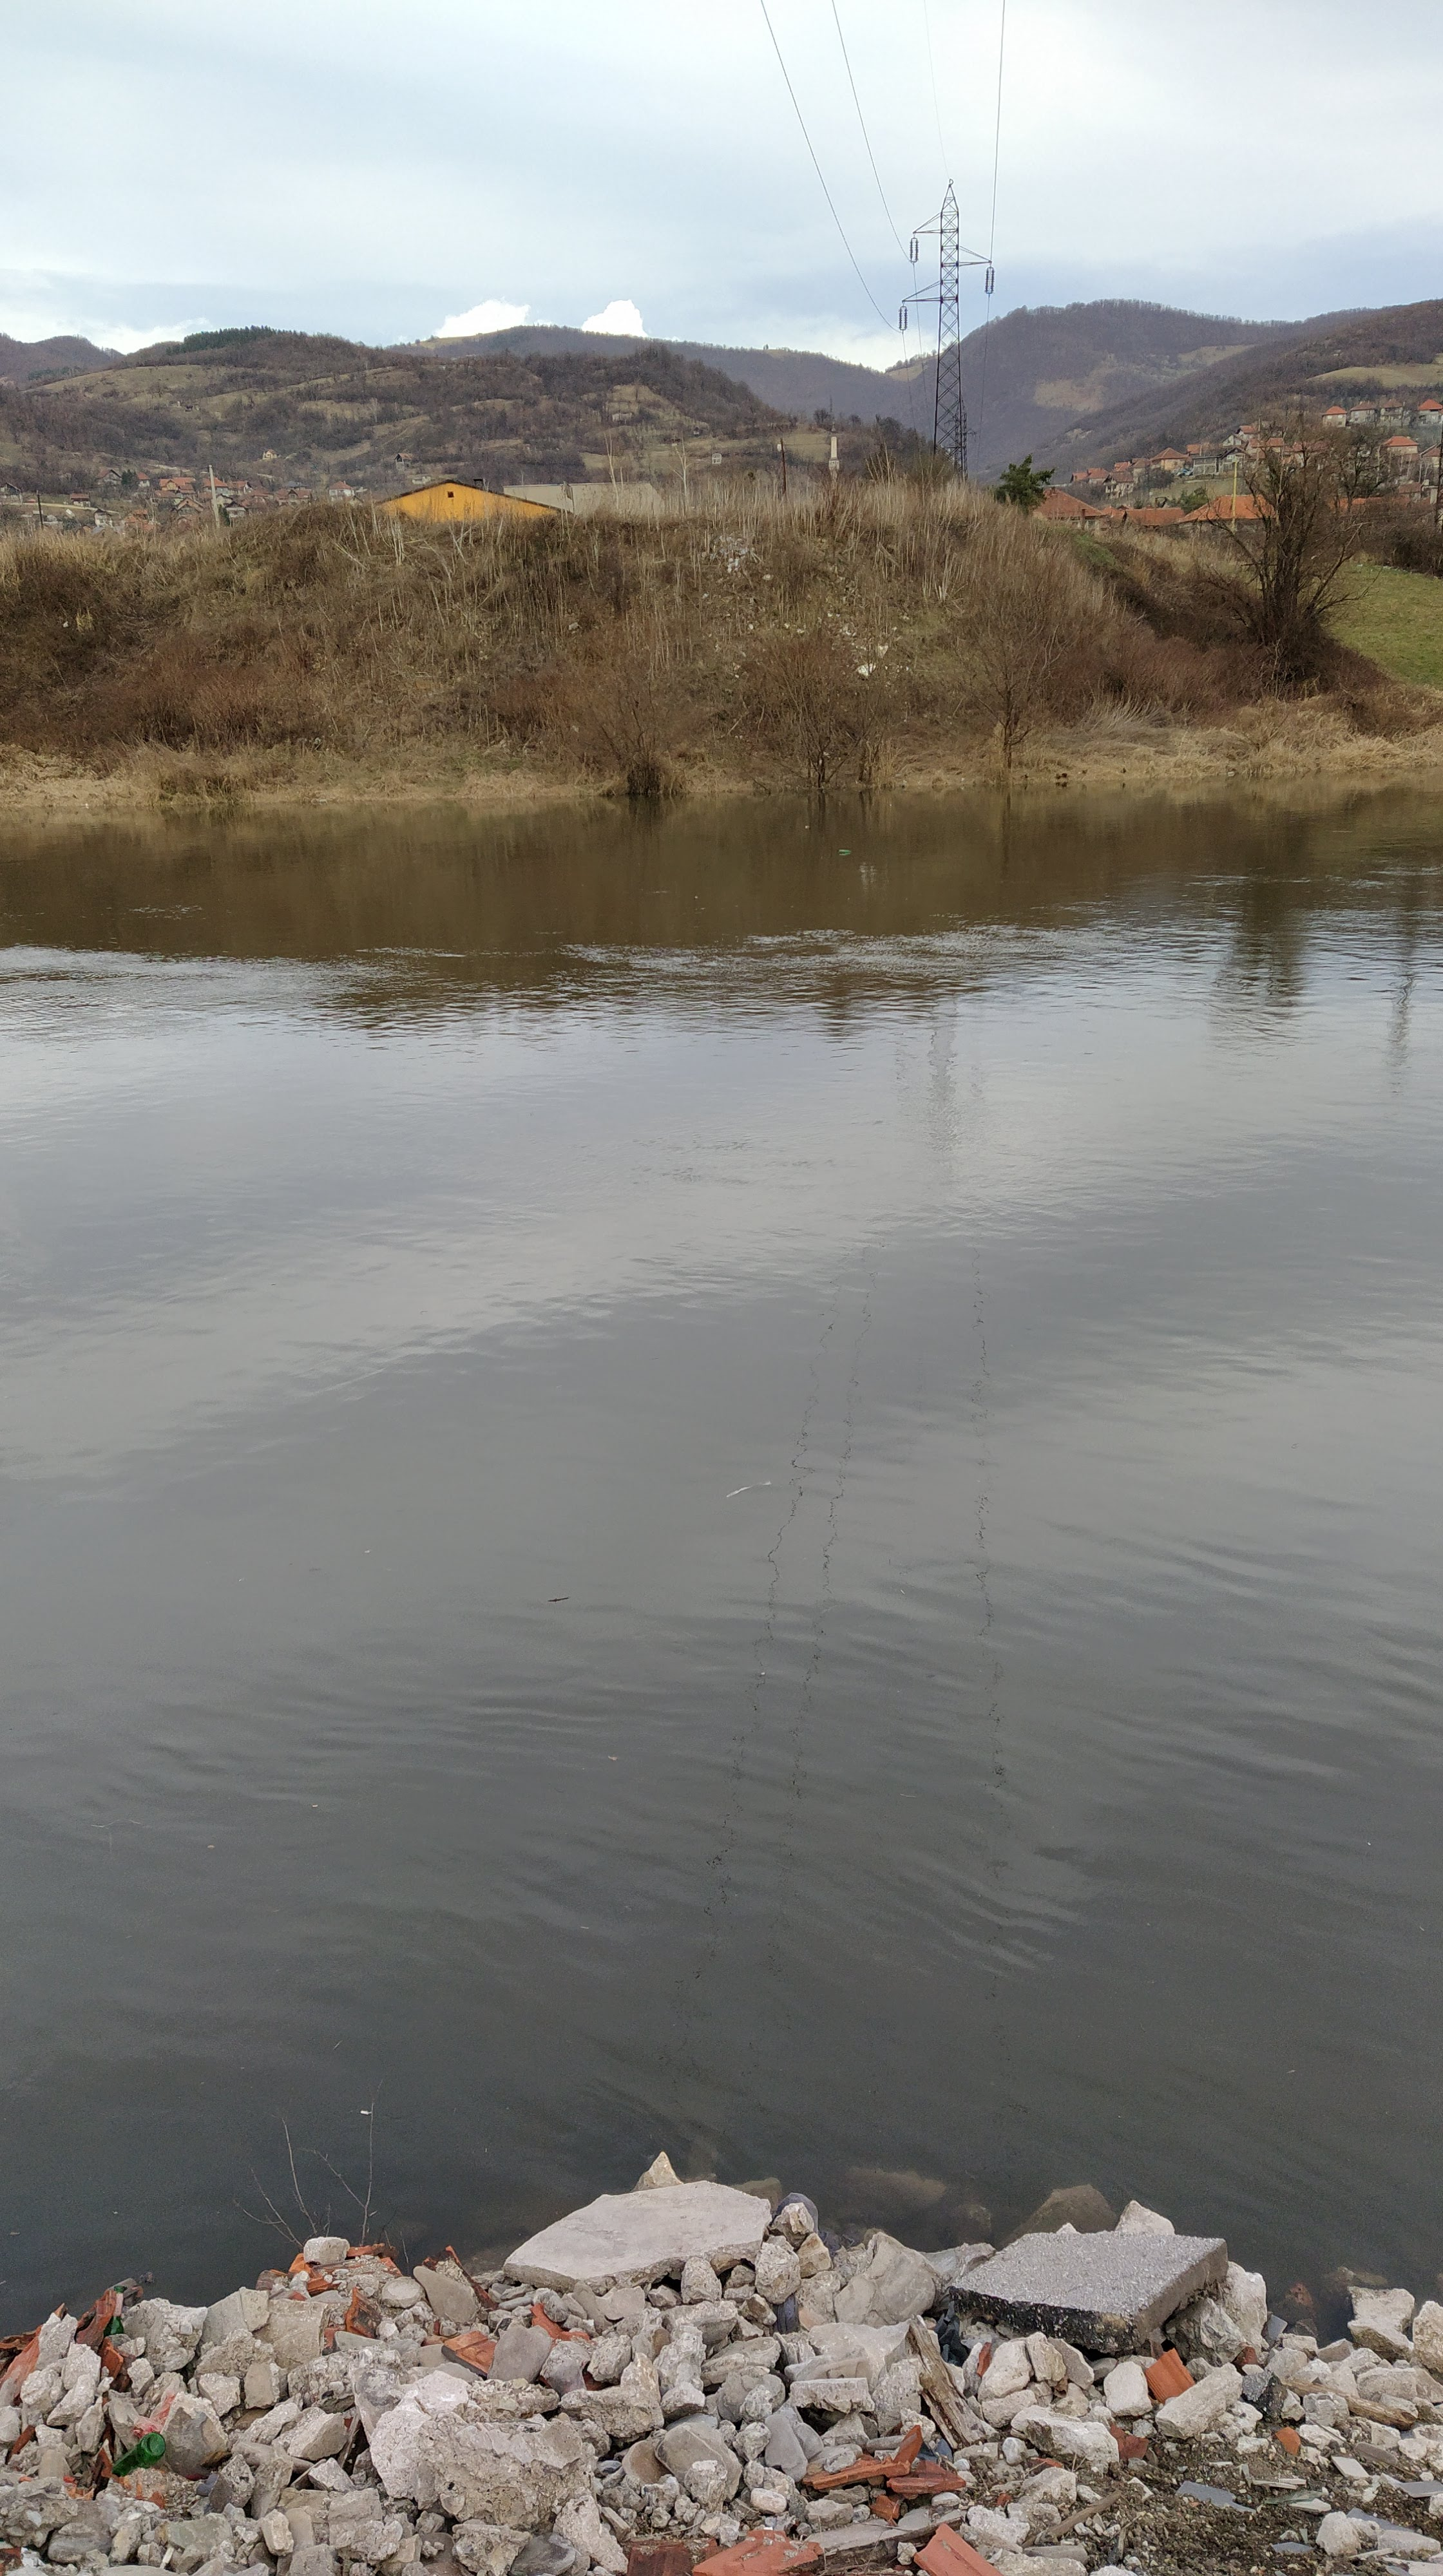Plastic Bottle: (837, 849, 850, 853), (1227, 771, 1234, 775)
